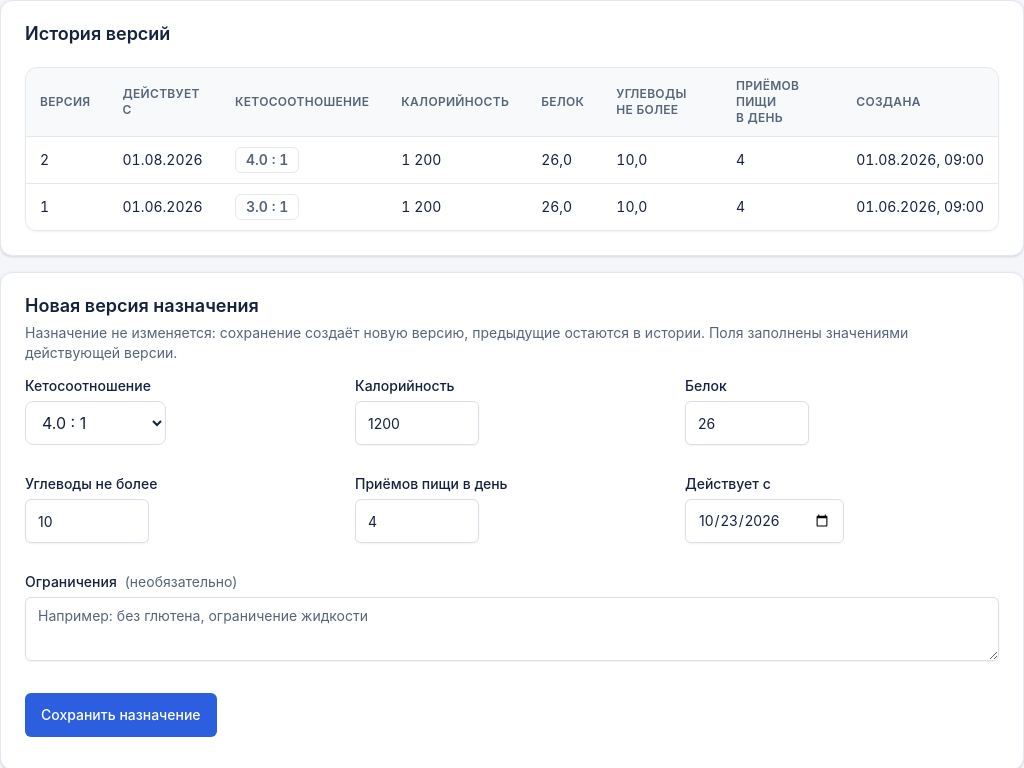
форма назначения › перед записью показывает значения и прежние рядом с изменёнными, а отмена ничего не пишет
Select "3.5 : 1" in the dropdown labelled "Кетосоотношение". click: [96, 423]
box: [25, 401, 166, 445]
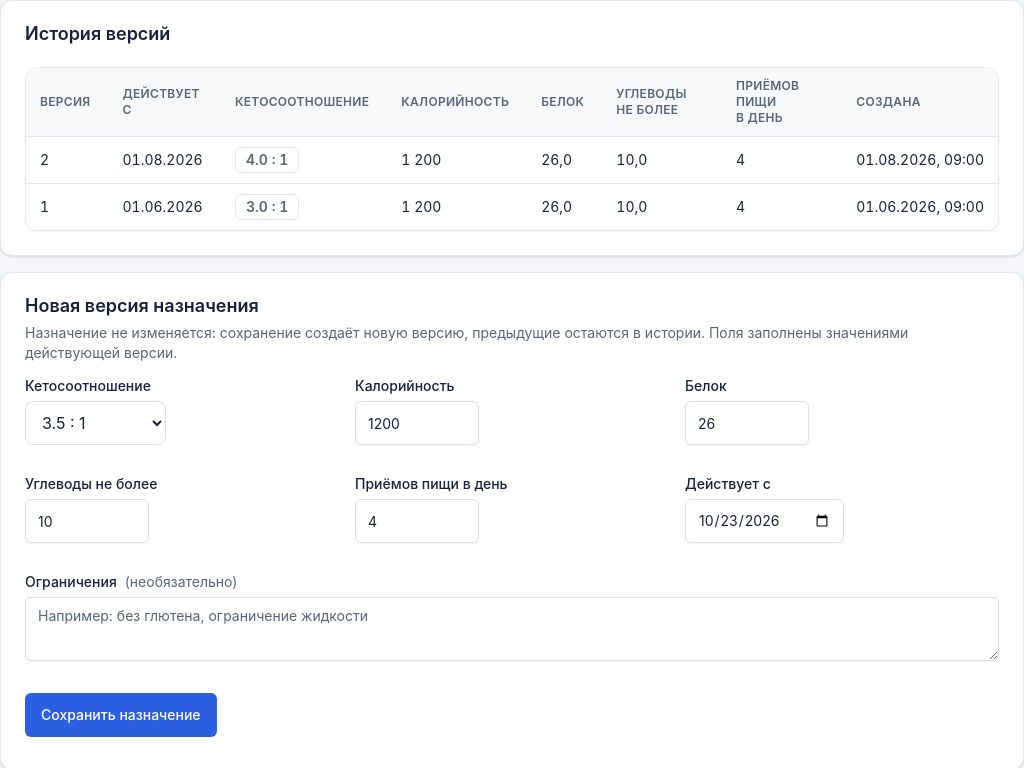
Click the button "Сохранить назначение". click: [121, 715]
box: [25, 693, 217, 737]
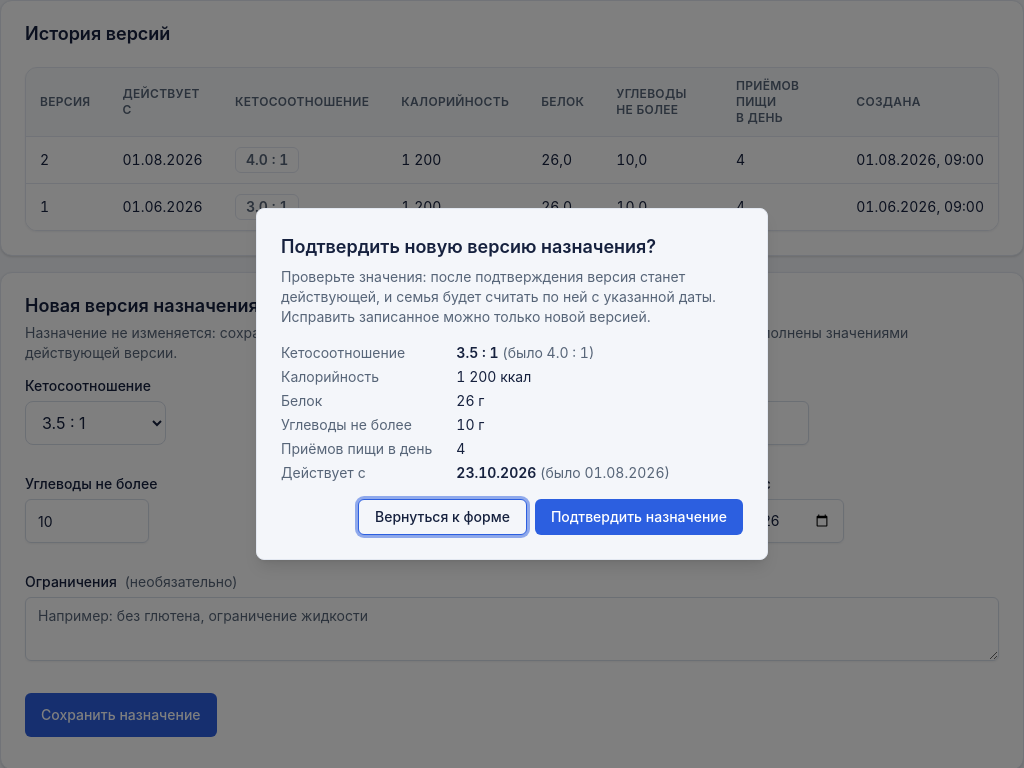
Expected: the text "3.5 : 1" is shown, [456, 344, 498, 361]
Expected: the text "(было 4.0 : 1)" is shown, [502, 344, 594, 361]
Expected: the text "1 200 ккал" is shown, [456, 368, 531, 385]
Click the button "Вернуться к форме". click: [442, 517]
box: [358, 499, 527, 535]
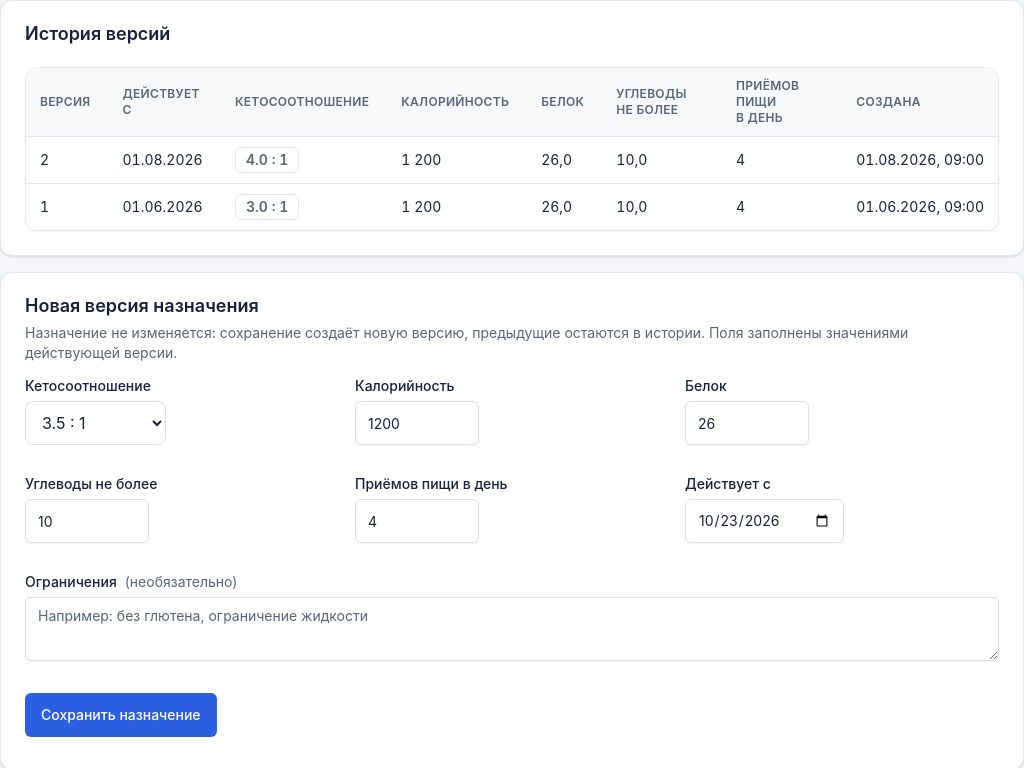
Expected: the dialog is gone
